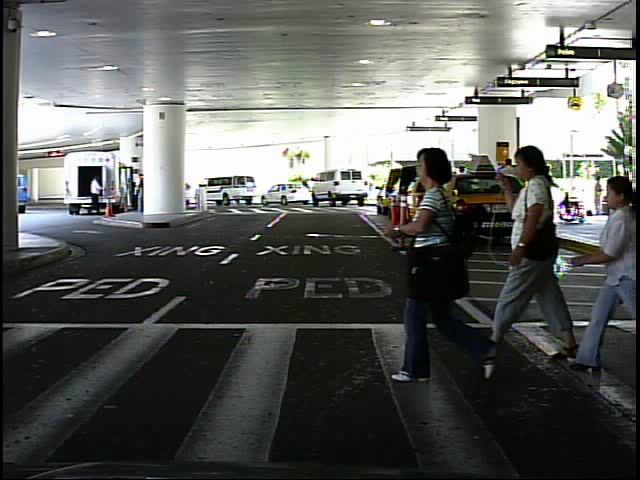person: (492, 133, 593, 375), (398, 133, 492, 390), (87, 170, 105, 220), (590, 172, 607, 217)
